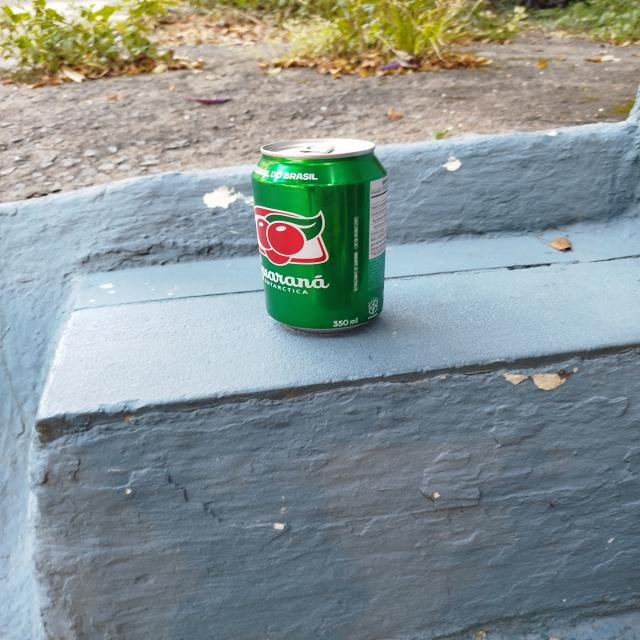Guarana: (251, 136, 398, 338)
